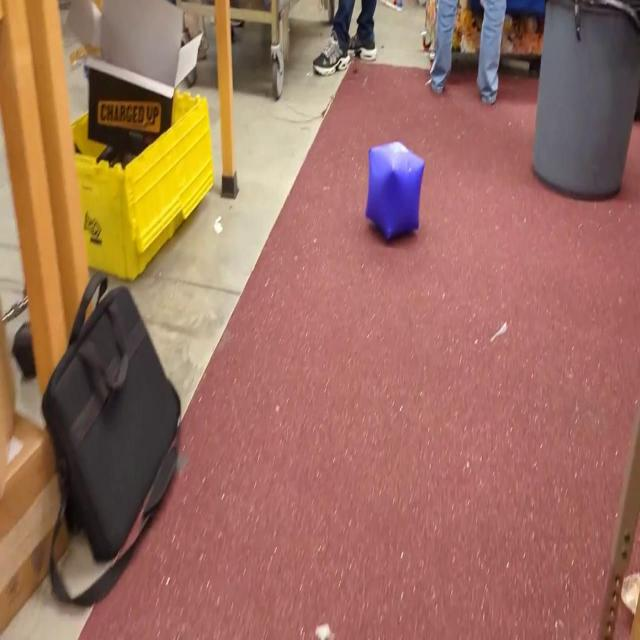frc_cube: (365, 136, 426, 245)
